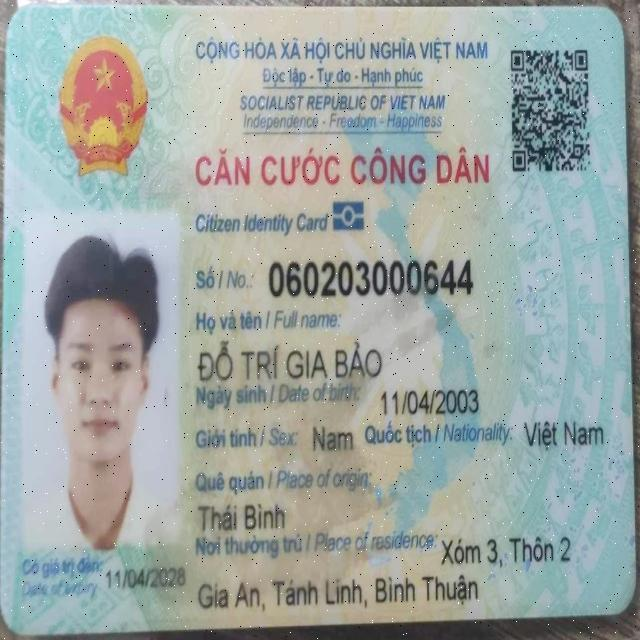current_place: (194, 571, 481, 610), (439, 531, 573, 570)
dob: (379, 382, 481, 419)
expire_date: (105, 560, 188, 598)
gender: (311, 423, 355, 455)
id: (265, 255, 477, 301)
name: (193, 337, 385, 385)
nationality: (522, 417, 607, 455)
origin_place: (194, 499, 288, 533)
